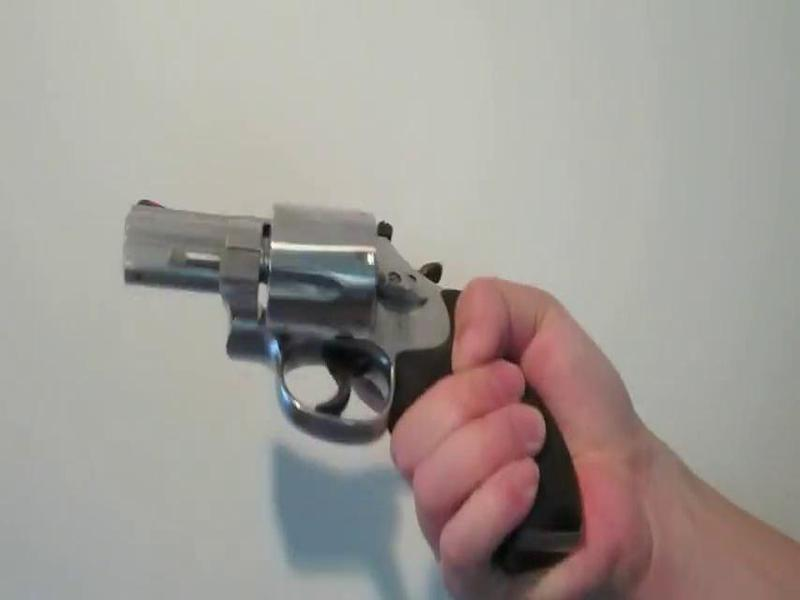Revolver: (121, 138, 543, 479)
